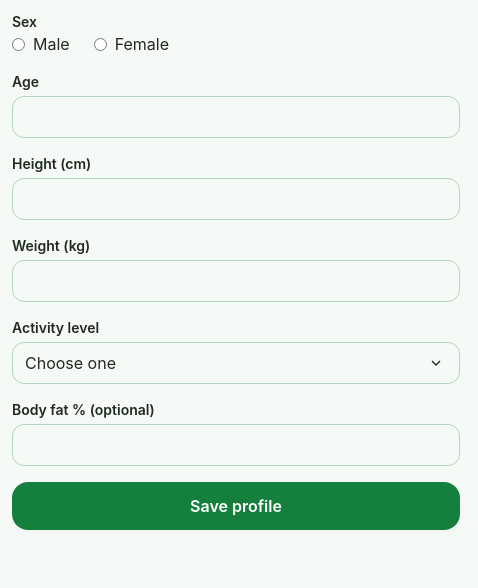
Test: ProfileForm › shows an error and does not save when the age is out of range
Click the radio button labelled "Male": coordinates (18, 44) [12,38,25,50]
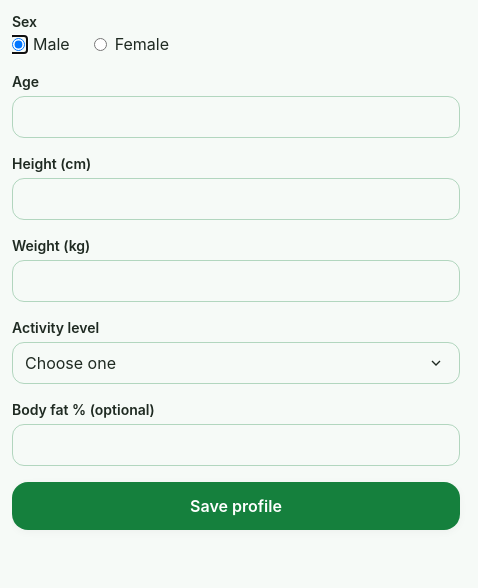
In the number field labelled "Age": coordinates (236, 117) [12,96,460,138], type "30"
In the number field labelled "Height (cm)": coordinates (236, 199) [12,178,460,220], type "175"
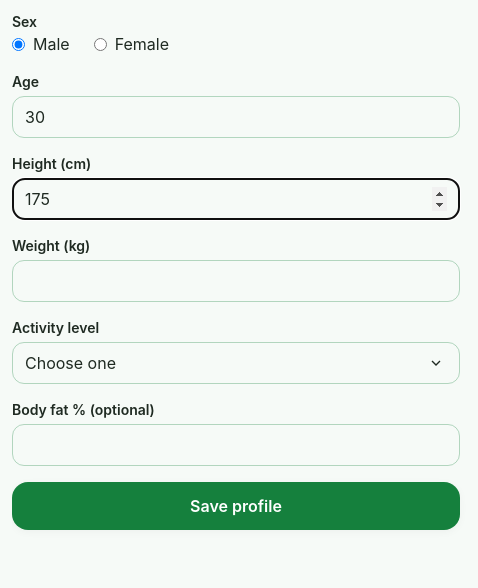
In the number field labelled "Weight (kg)": coordinates (236, 281) [12,260,460,302], type "80"
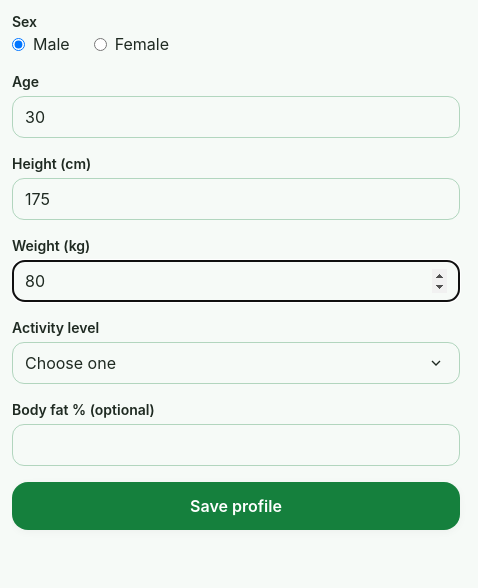
Select "Moderate" in the dropdown labelled "Activity level": coordinates (236, 363) [12,342,460,384]
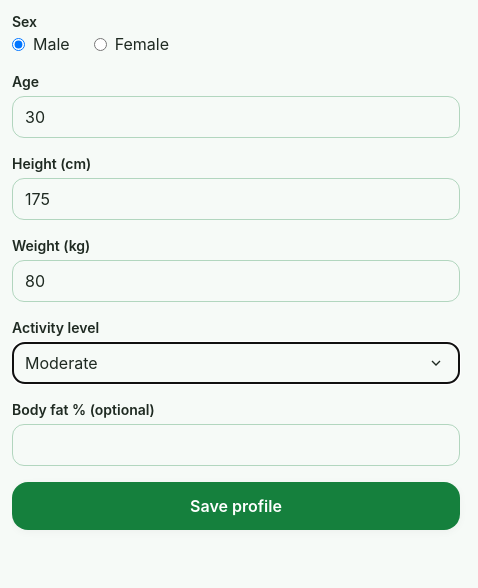
Replace the text in the number field labelled "Age" with "9": coordinates (236, 117) [12,96,460,138]
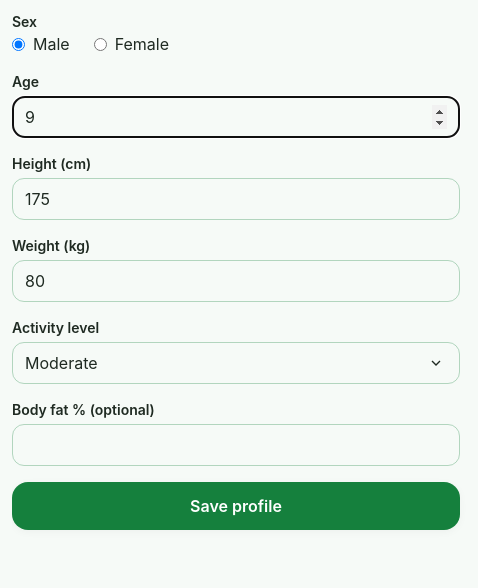
Click the button "Save profile": coordinates (236, 506) [12,482,460,530]
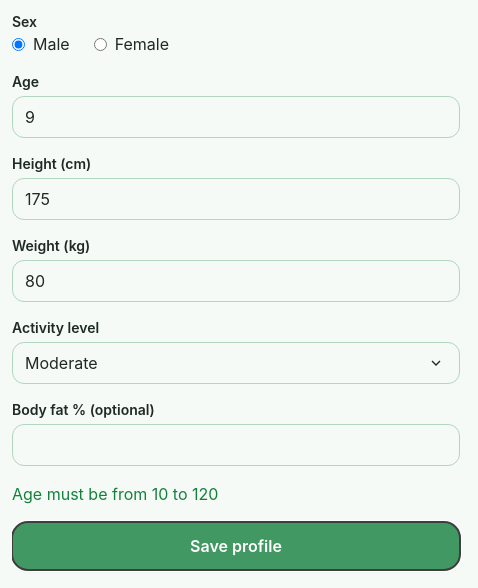
Now the message reads "Age must be from 10 to 120", box [12,484,218,504]
